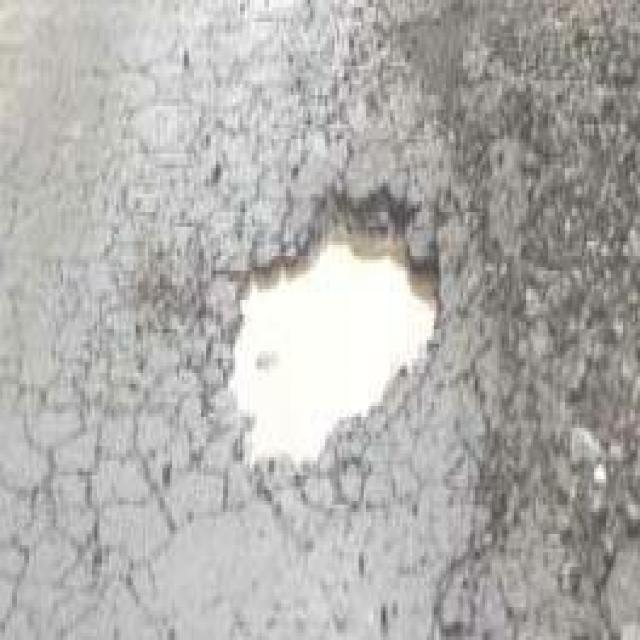Pothole: (160, 168, 521, 486)
